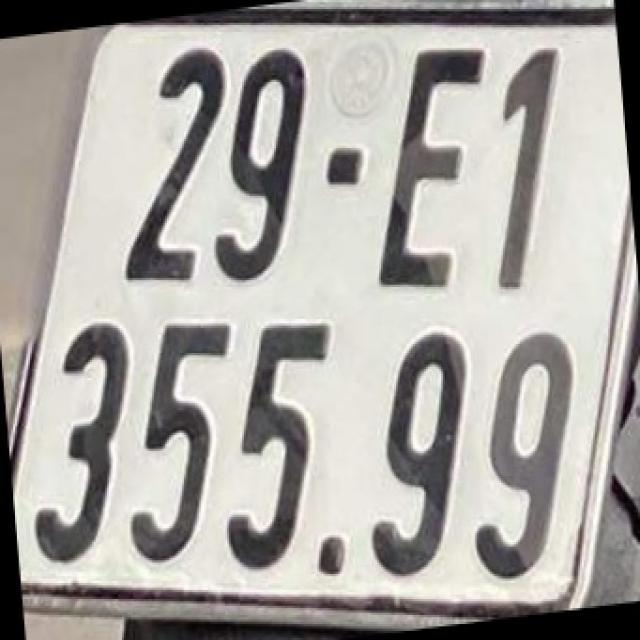1: (490, 36, 569, 292)
2: (116, 38, 224, 284)
3: (28, 316, 130, 565)
5: (227, 312, 330, 572), (131, 312, 227, 563)
9: (471, 323, 578, 583), (366, 324, 469, 578), (214, 41, 312, 285)
E: (376, 34, 484, 294)
